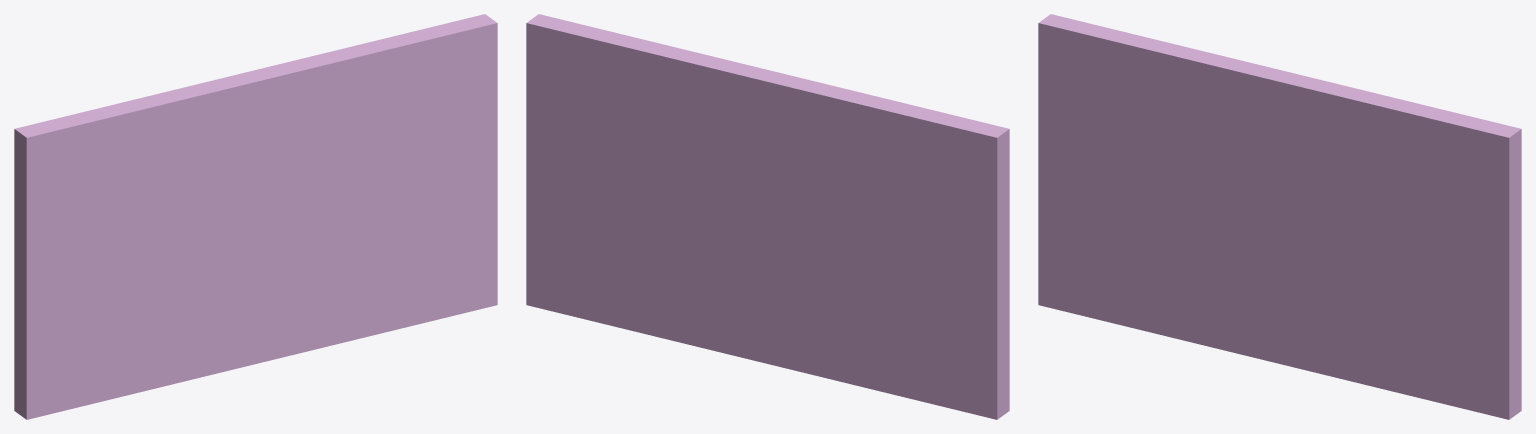
Rendered from Wall_B_3.fbx.
3 renders of one model, left to right at view 1: azimuth 30°, elevation 25°; view 2: azimuth 150°, elevation 25°; view 3: azimuth 330°, elevation 25°, orthographic.
Visible parts, largest first — view 1: Wall B 3; view 2: Wall B 3; view 3: Wall B 3.
Part boxes in pixels (box(x1,y1,x2,y2)): Wall B 3: box(14, 14, 497, 419); Wall B 3: box(526, 14, 1009, 419); Wall B 3: box(1038, 14, 1521, 419).
Size of the model in its own units: 1697 by 972 by 77.03.
